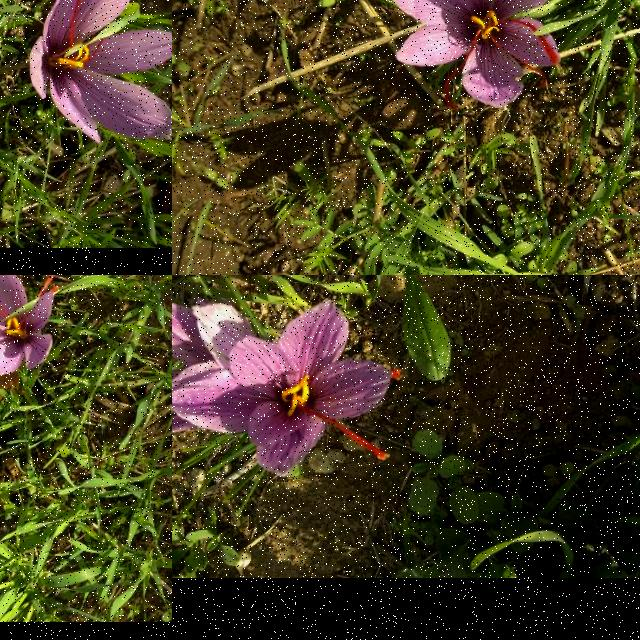flower: (172, 298, 401, 477), (29, 0, 172, 144), (381, 0, 567, 110), (0, 275, 61, 376)
